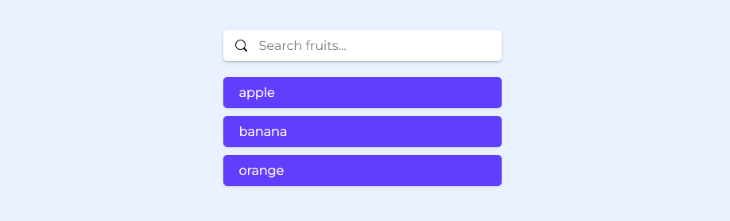search_box: (223, 31, 504, 62)
